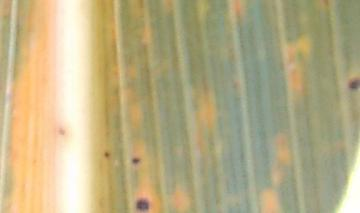tarspot: (347, 77, 360, 90), (136, 199, 148, 212), (55, 128, 67, 136), (131, 157, 141, 164), (102, 151, 110, 158)
